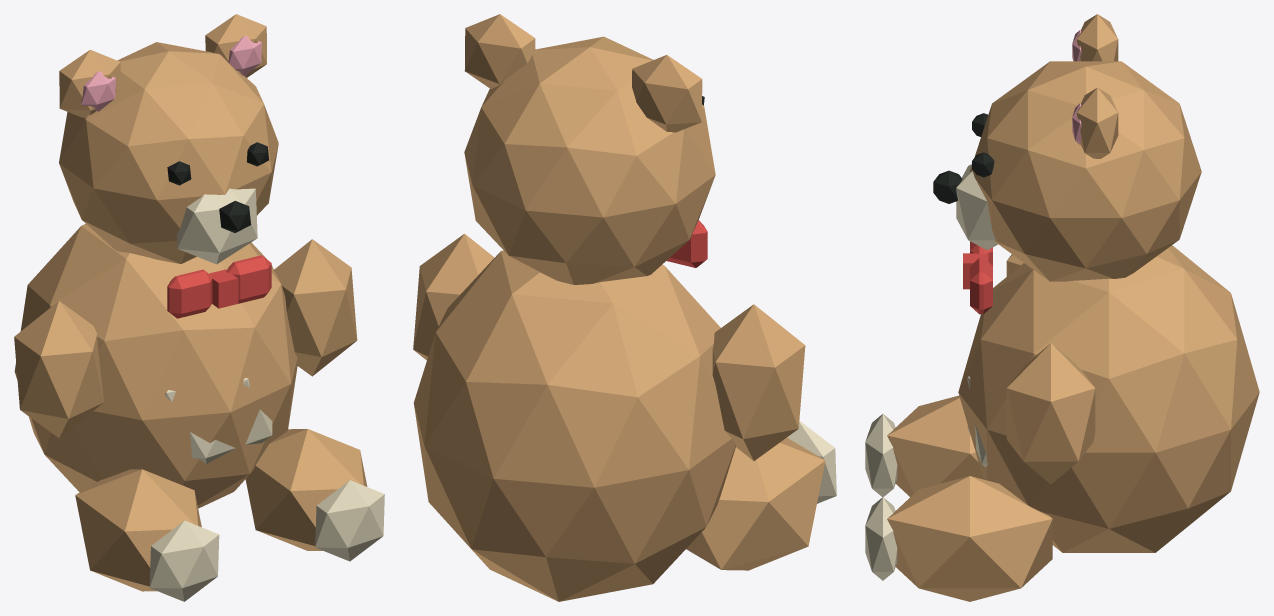
File: teddy_bear.glb
The picture shows the model from 3 angles, left to right: view 1: azimuth 30°, elevation 25°; view 2: azimuth 150°, elevation 25°; view 3: azimuth 270°, elevation 25°; orthographic projection. The views are drawn at different scales.
Parts seen in each view (by area): view 1: teddy_bear; view 2: teddy_bear; view 3: teddy_bear.
Boxes of the visible parts, left/top/right/bottom form: teddy_bear: left=14, top=14, right=384, bottom=601; teddy_bear: left=413, top=14, right=836, bottom=601; teddy_bear: left=865, top=14, right=1259, bottom=601.
Size of the model in its own units: 0.3405 by 0.485 by 0.3403.
Materials: 1 (1 with a texture image).
